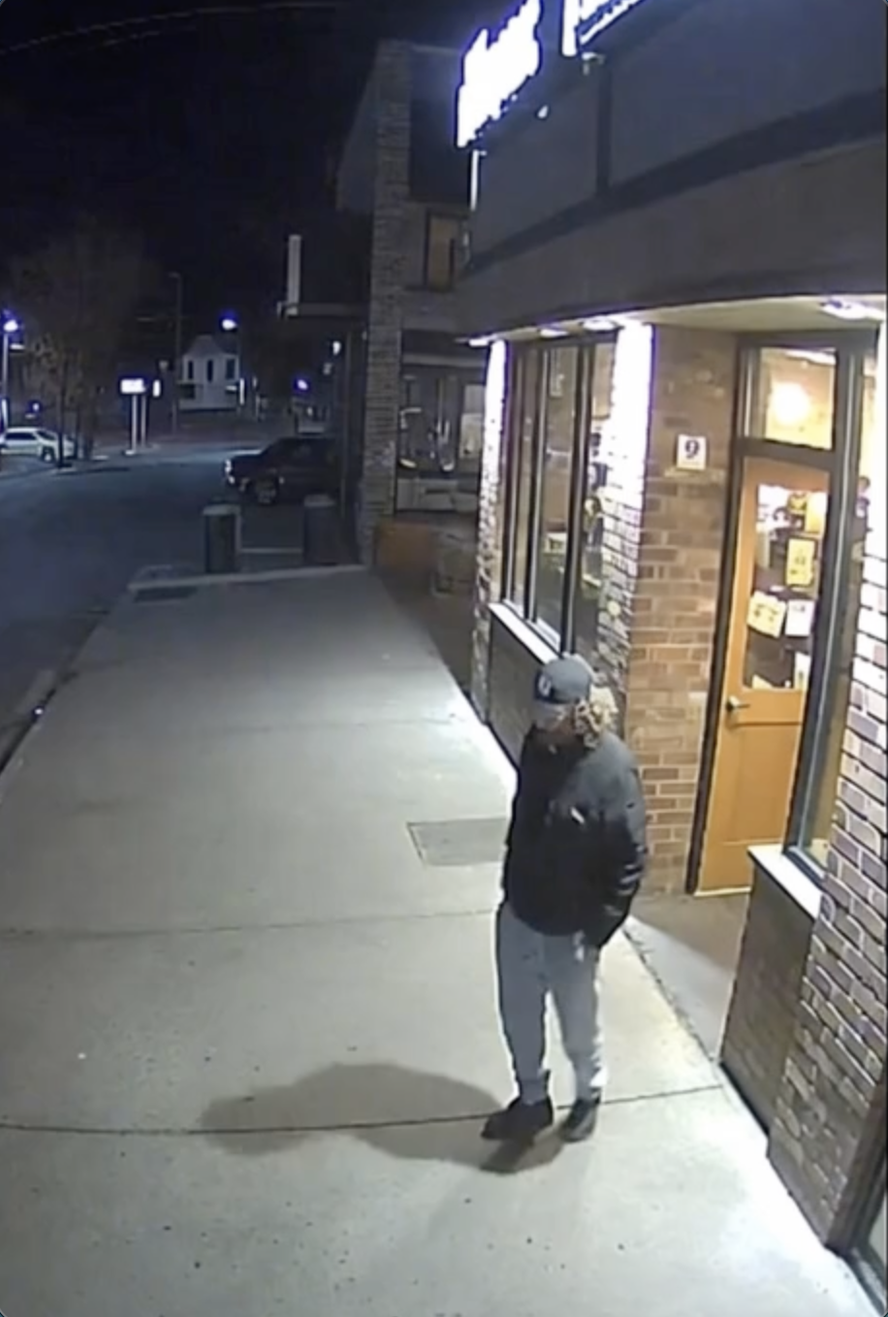Heavy Gun: (461, 650, 651, 1157)
